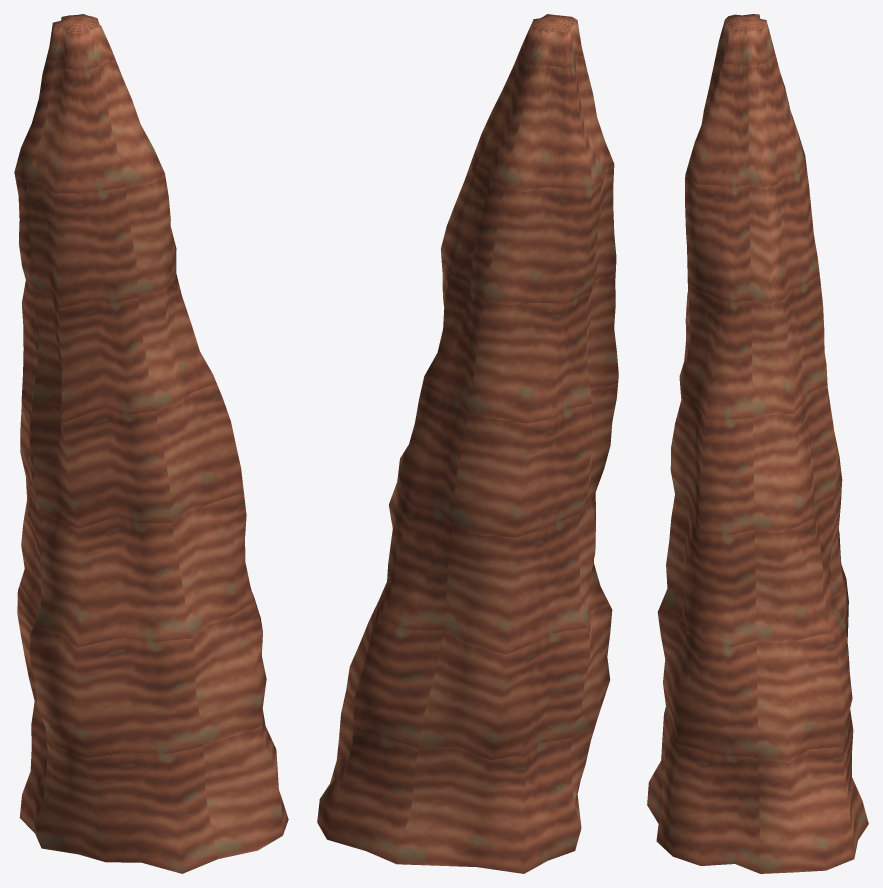
File: Rock_Spire_3.gltf
3 renders of one model, left to right at view 1: azimuth 30°, elevation 25°; view 2: azimuth 150°, elevation 25°; view 3: azimuth 270°, elevation 25°, orthographic. The views are drawn at different scales.
Visible parts, largest first — view 1: Rock_Spire_3; view 2: Rock_Spire_3; view 3: Rock_Spire_3.
Boxes of the visible parts, x1,y1,x2,y2 form: Rock_Spire_3: (14, 14, 288, 873); Rock_Spire_3: (317, 14, 618, 873); Rock_Spire_3: (647, 14, 868, 873).
Size of the model in its own units: 14.2 by 44.06 by 11.6.
1 material, 1 textured.
